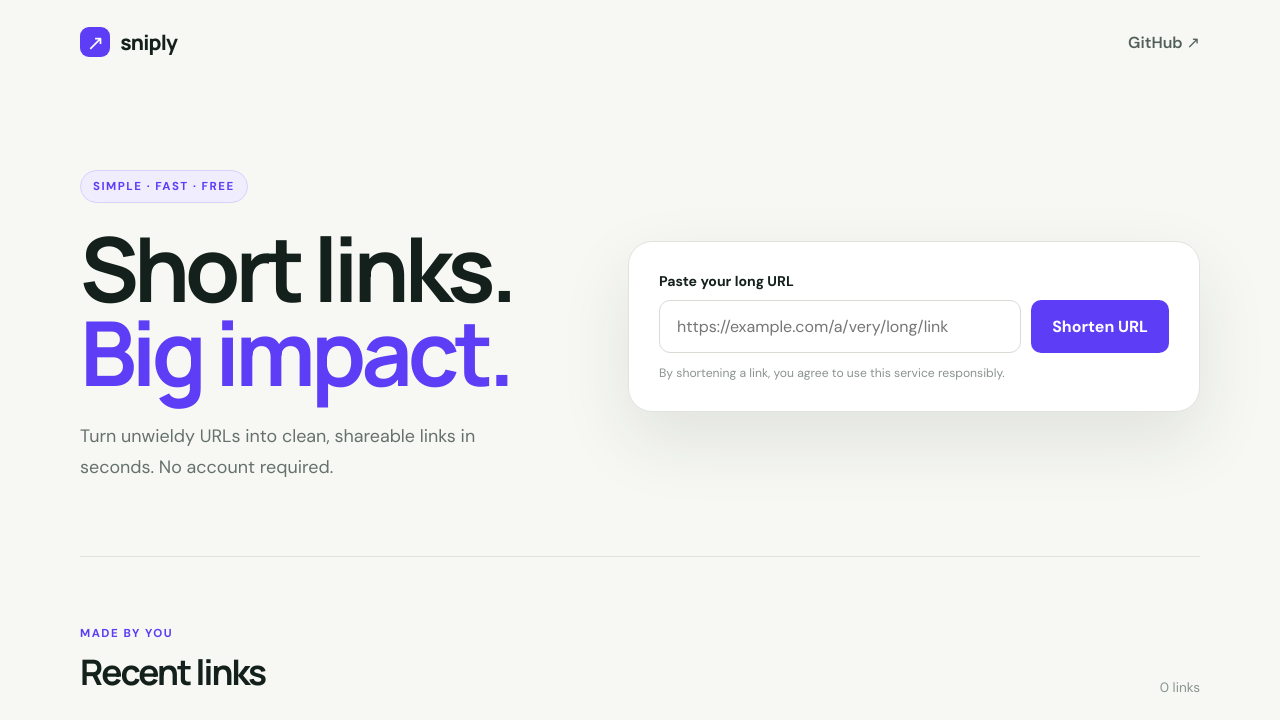
it: App › shows the shortened result
Step 1. Type "https://example.com/long" into the field labelled "Paste your long URL" → (840,326), box [659,300,1021,353]
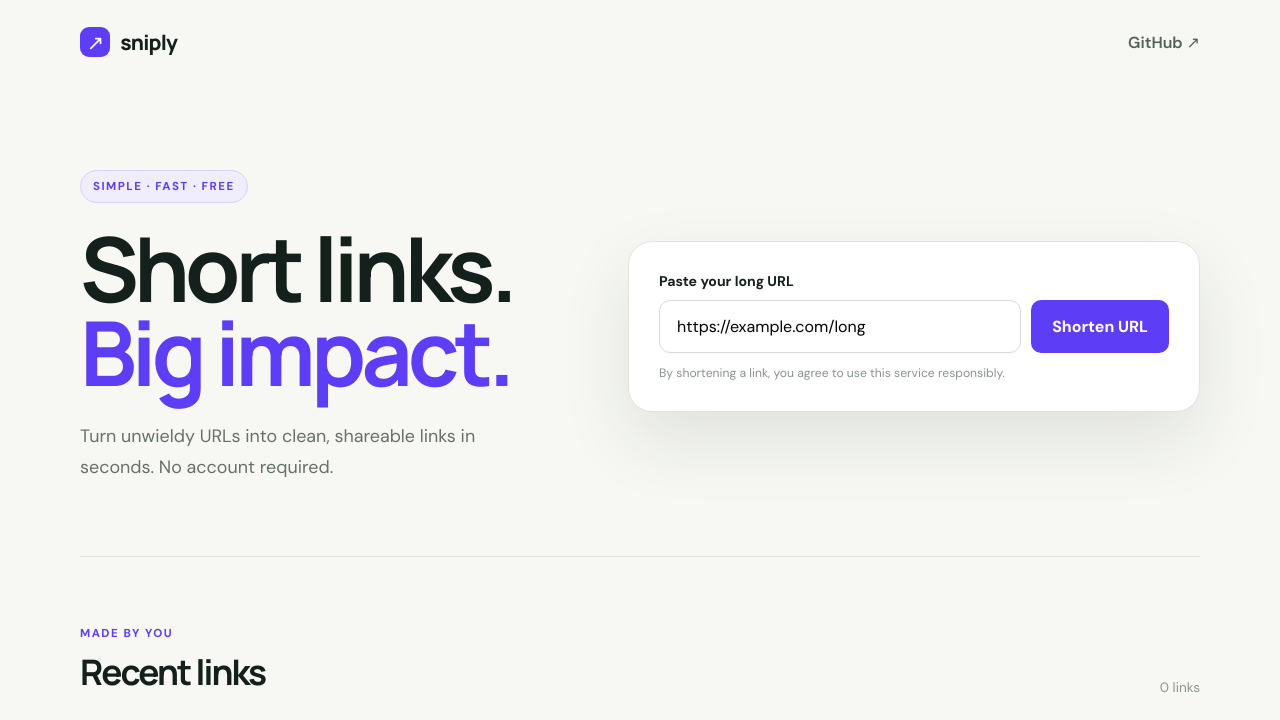
Step 2. Click the button "Shorten URL" → (1100,326), box [1031,300,1169,353]
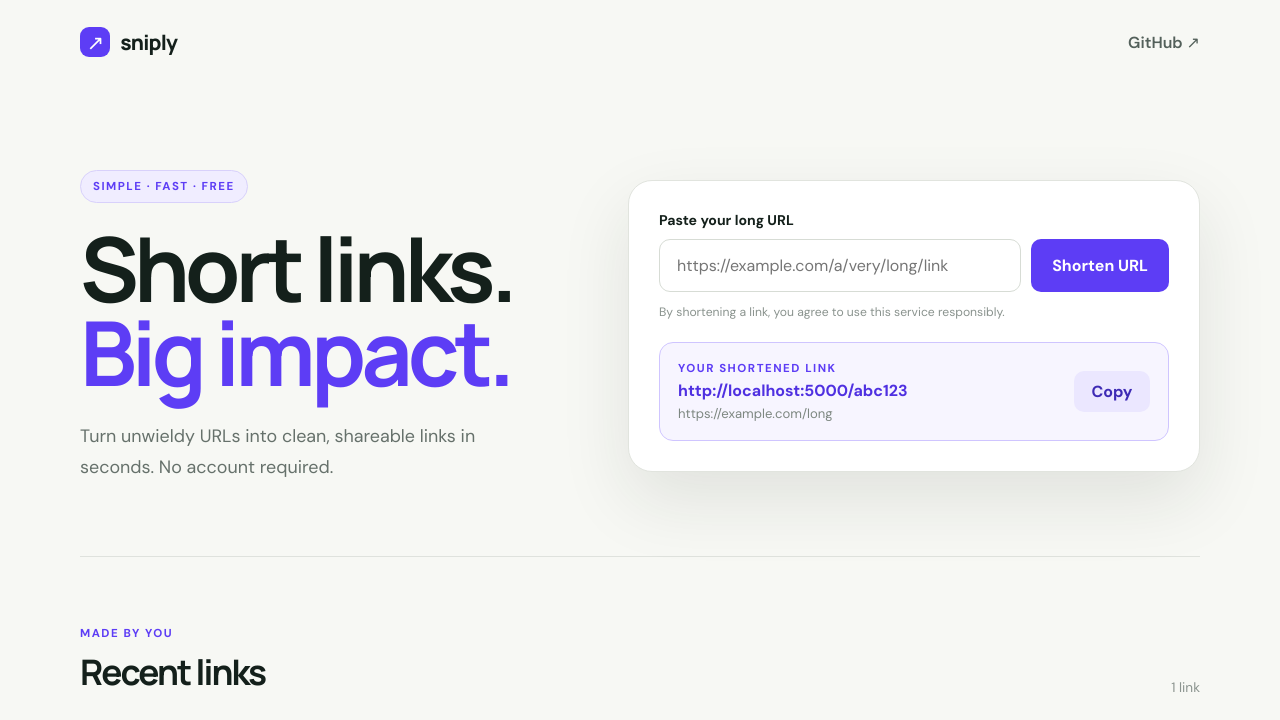
Expected: the number of links "http://localhost:5000/abc123" is 2
